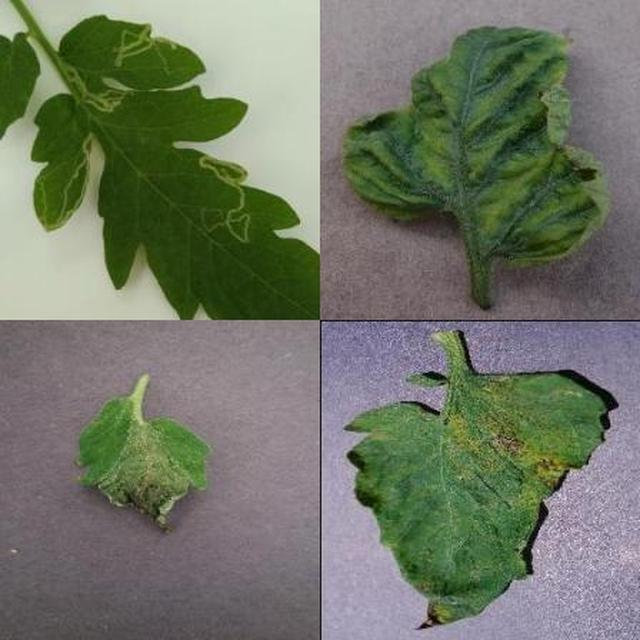Leaf Miner: (196, 199, 640, 640)
